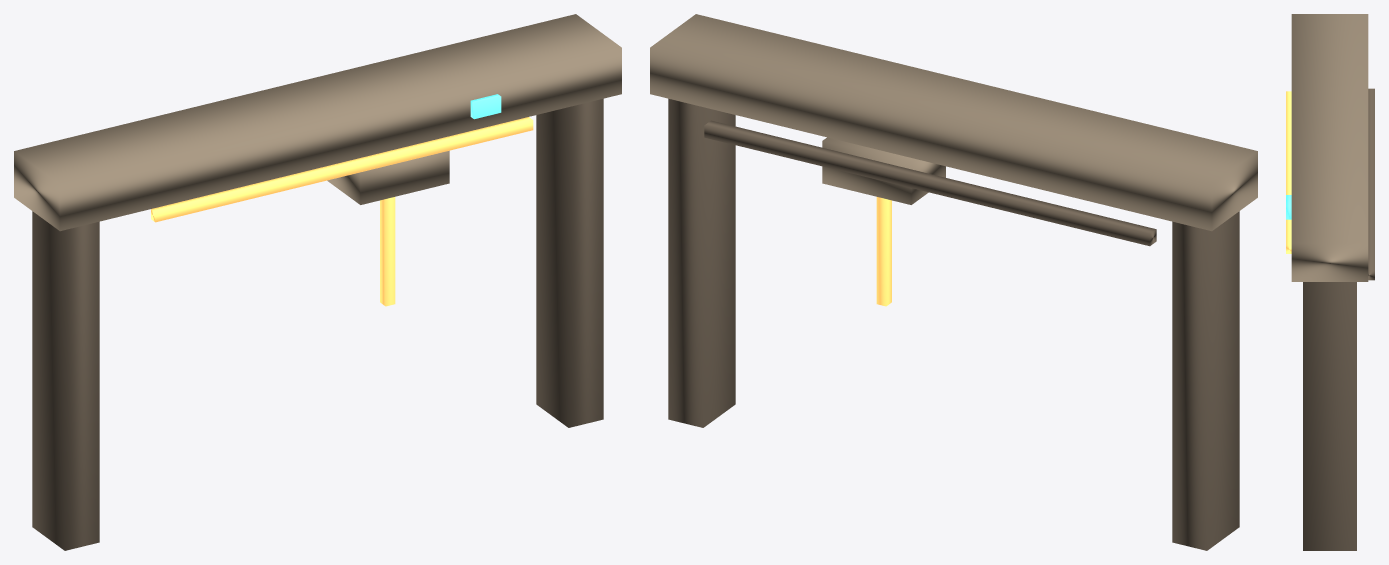
The model's file is refinery-smelter-gantry-lod1.glb.
3 views of the same model, side by side, from view 1: azimuth 30°, elevation 25°; view 2: azimuth 150°, elevation 25°; view 3: azimuth 270°, elevation 25° (orthographic). The views are drawn at different scales.
Parts seen in each view (by area): view 1: refinery-smelter-gantry-beam, refinery-smelter-gantry-left, refinery-smelter-gantry-right, refinery-smelter-gantry-hazard, refinery-smelter-gantry-carriage, refinery-smelter-gantry-drop-line; view 2: refinery-smelter-gantry-beam, refinery-smelter-gantry-left, refinery-smelter-gantry-right, refinery-smelter-gantry-service-rail, refinery-smelter-gantry-carriage, refinery-smelter-gantry-drop-line; view 3: refinery-smelter-gantry-beam, refinery-smelter-gantry-right, refinery-smelter-gantry-service-rail, refinery-smelter-gantry-hazard, refinery-smelter-gantry-status.
Part boxes in pixels (x1,y1,x2,y2): refinery-smelter-gantry-beam: (14,14,621,231); refinery-smelter-gantry-left: (32,211,99,550); refinery-smelter-gantry-right: (536,98,603,427); refinery-smelter-gantry-hazard: (151,117,533,222); refinery-smelter-gantry-carriage: (327,150,449,204); refinery-smelter-gantry-drop-line: (380,197,395,306); refinery-smelter-gantry-beam: (650,14,1257,231); refinery-smelter-gantry-left: (1172,211,1239,550); refinery-smelter-gantry-right: (668,98,735,427); refinery-smelter-gantry-service-rail: (704,120,1156,246); refinery-smelter-gantry-carriage: (822,137,945,204); refinery-smelter-gantry-drop-line: (876,197,891,306); refinery-smelter-gantry-beam: (1291,14,1368,281); refinery-smelter-gantry-right: (1303,282,1356,550); refinery-smelter-gantry-service-rail: (1368,88,1374,280); refinery-smelter-gantry-hazard: (1286,91,1291,253); refinery-smelter-gantry-status: (1286,195,1291,219).
Bounding box in the file's own units: 5.8 × 3.69 × 0.95.
